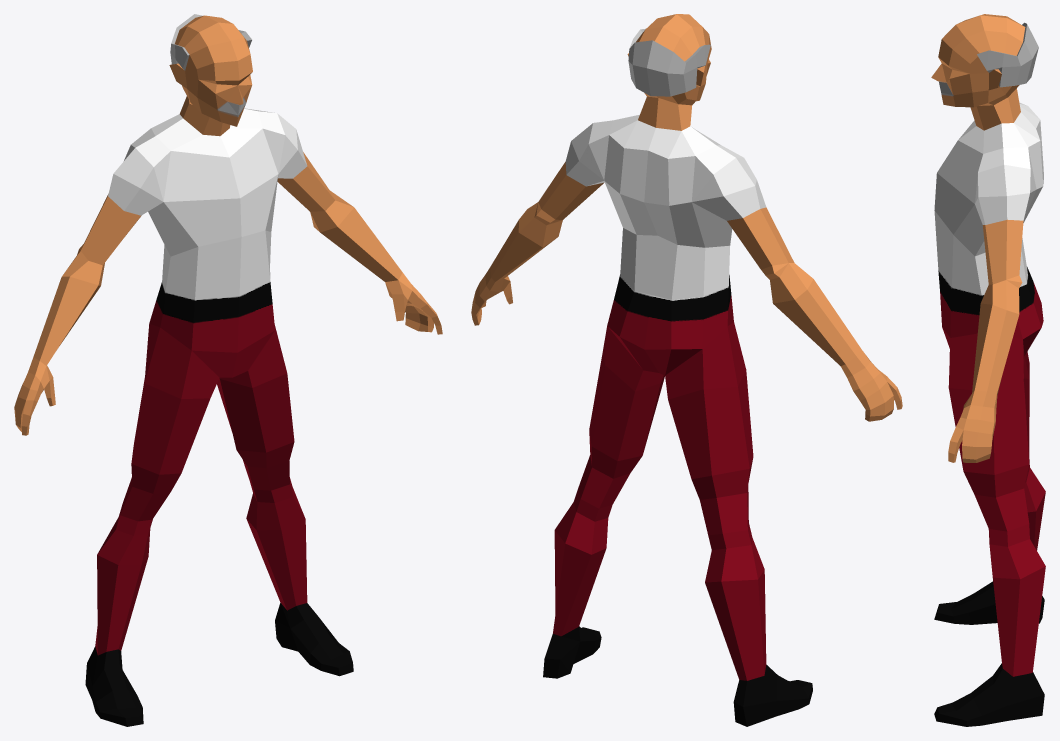
File: Miguel_Character_Model.fbx
The picture shows the model from 3 angles, left to right: view 1: azimuth 30°, elevation 25°; view 2: azimuth 150°, elevation 25°; view 3: azimuth 270°, elevation 25°; orthographic projection. The views are drawn at different scales.
Visible parts, largest first — view 1: Character.002; view 2: Character.002; view 3: Character.002.
Part boxes in pixels (left/top/right/bottom): Character.002: left=14, top=14, right=442, bottom=726; Character.002: left=471, top=14, right=902, bottom=726; Character.002: left=931, top=14, right=1045, bottom=726.
Bounding box in the file's own units: 140 × 211 × 33.69.
Materials: 1 (1 with a texture image).
